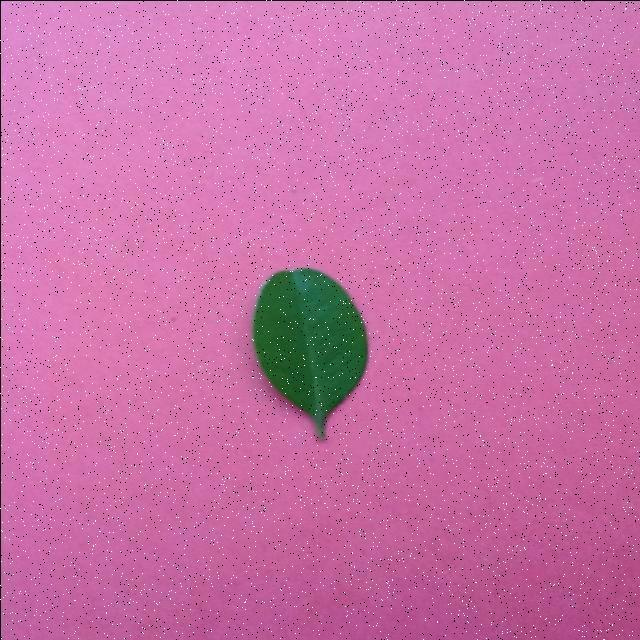foliage: (247, 264, 371, 444)
